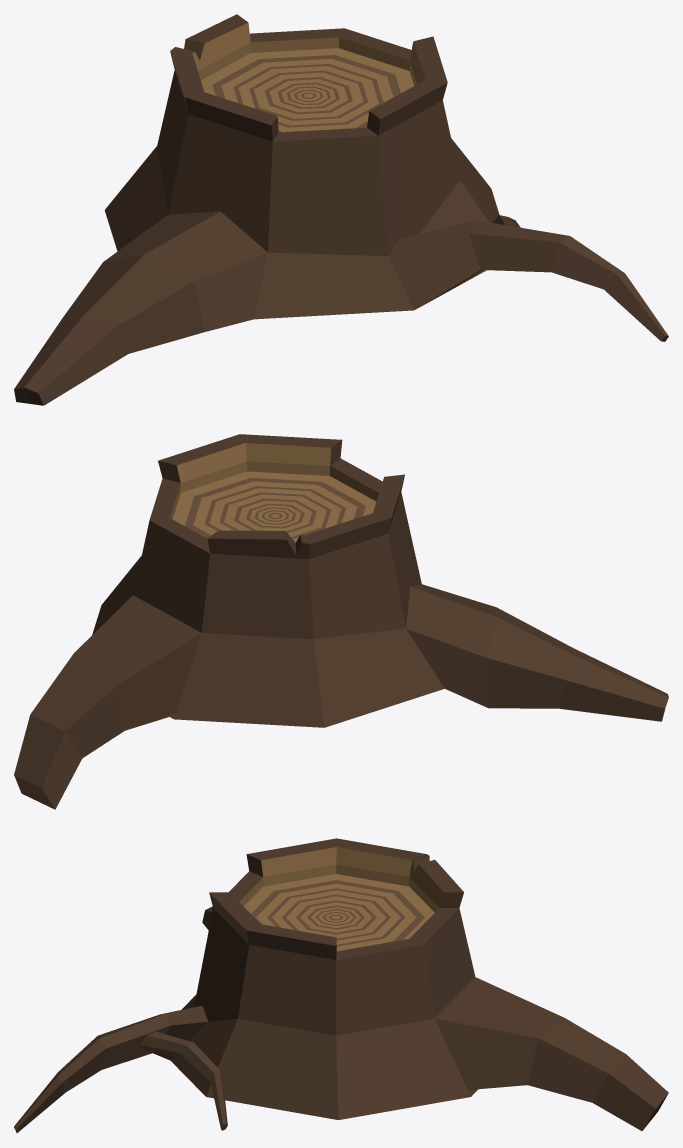
The model's file is Trunk.fbx.
3 renders of one model, top to bottom at view 1: azimuth 30°, elevation 25°; view 2: azimuth 150°, elevation 25°; view 3: azimuth 270°, elevation 25°, orthographic. The views are drawn at different scales.
Parts seen in each view (by area): view 1: Circle; view 2: Circle; view 3: Circle.
Boxes of the visible parts, x1,y1,x2,y2 form: Circle: (14,14,668,405); Circle: (14,434,668,809); Circle: (14,838,668,1133).
Size of the model in its own units: 399 by 160 by 473.
